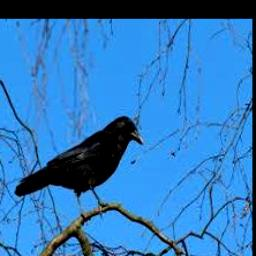Crow: (15, 115, 144, 219)
